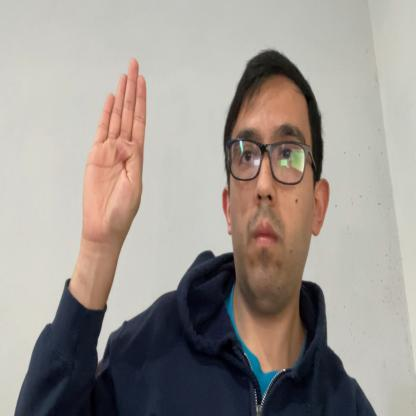B: (82, 57, 147, 241)
